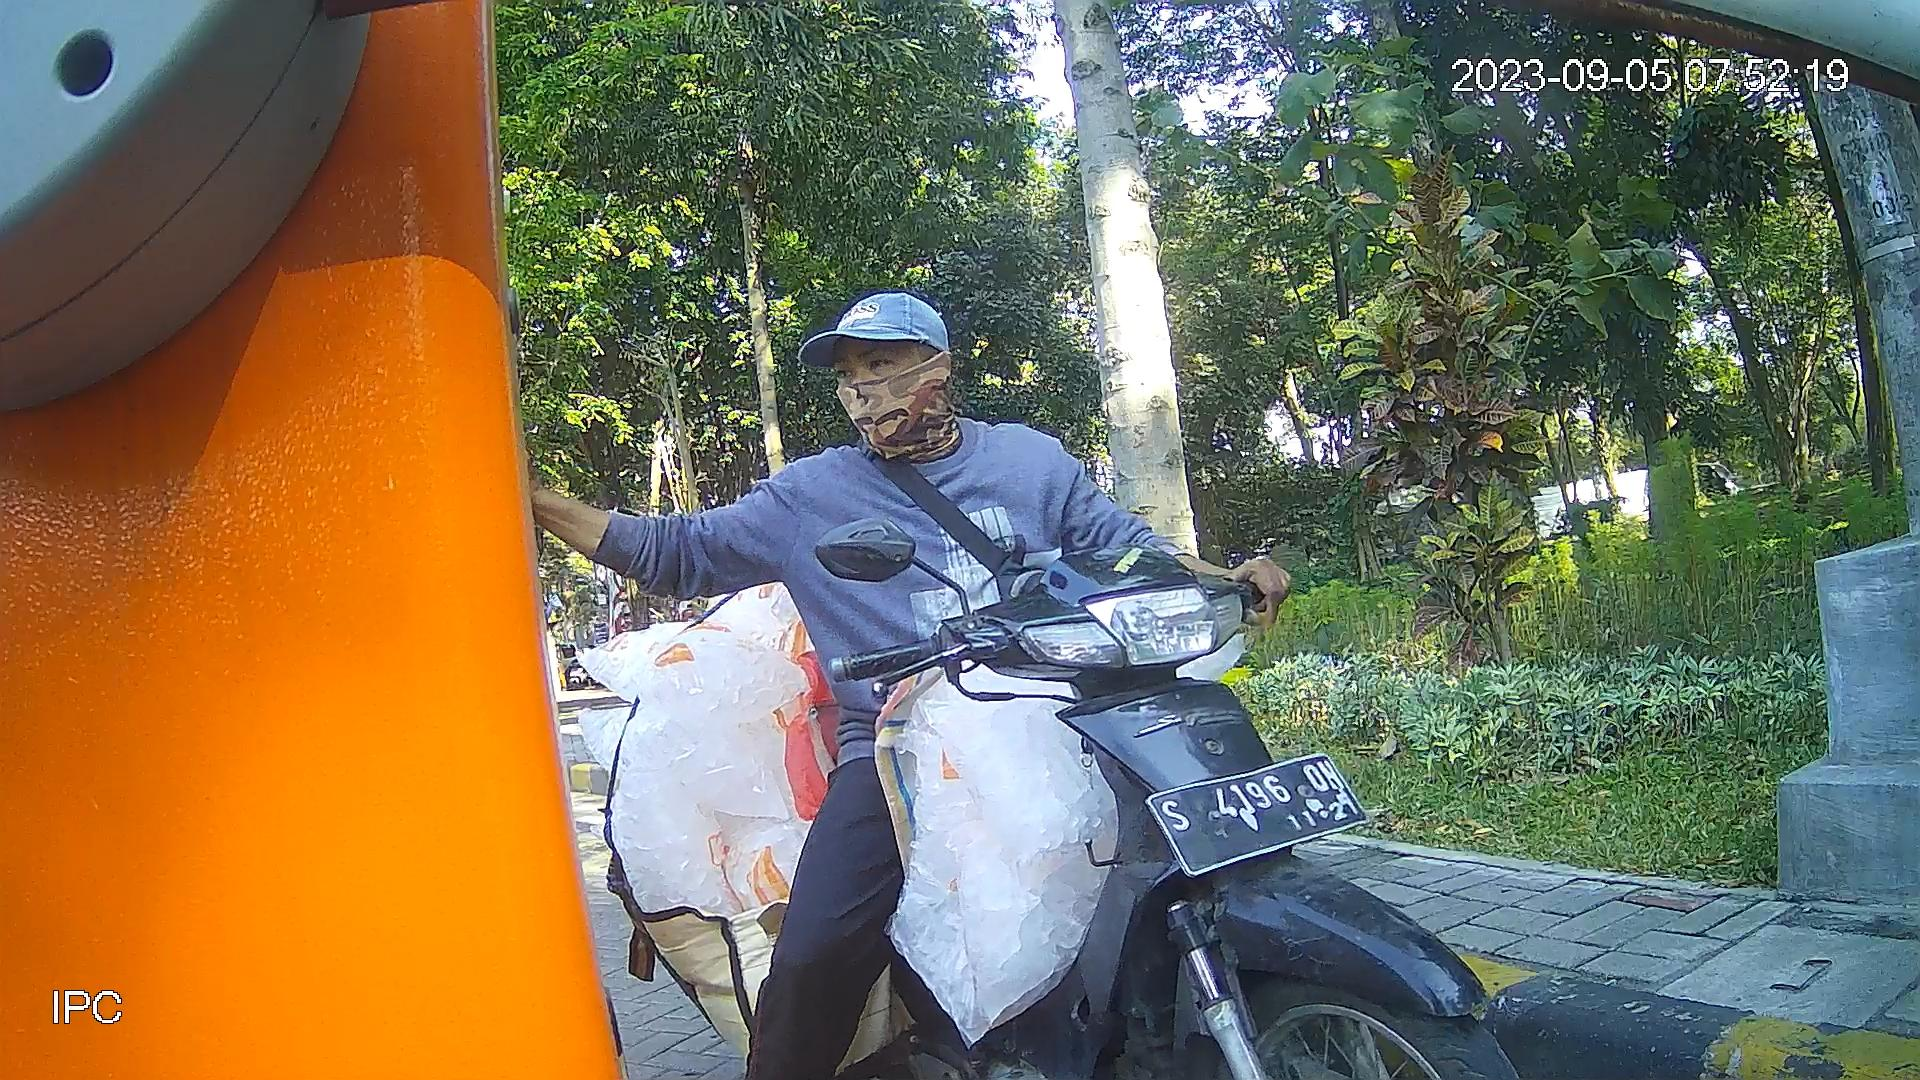plat: (1142, 750, 1371, 880)
